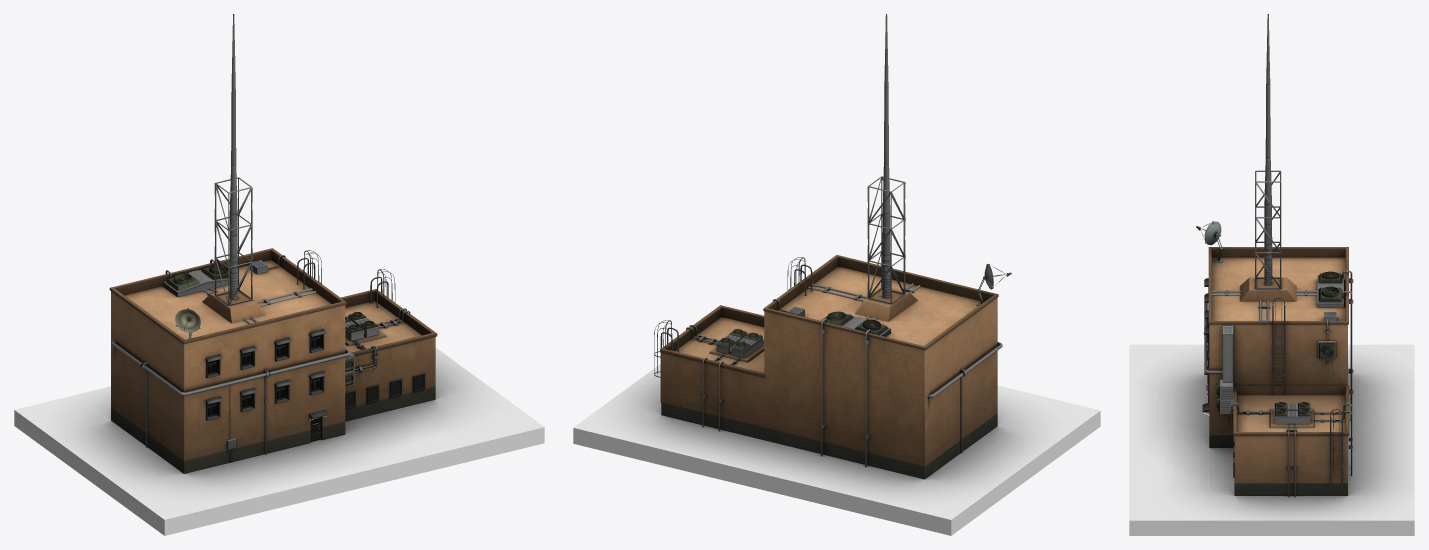
File: sf_apartment_1.glb
3 renders of one model, left to right at view 1: azimuth 30°, elevation 25°; view 2: azimuth 150°, elevation 25°; view 3: azimuth 270°, elevation 25°, orthographic. The views are drawn at different scales.
Parts seen in each view (by area): view 1: Plane.020_0, Plane_0, Plane.013_0, Plane_4, Plane.022_0, Cube.002_0, Plane.013_1, Plane.016_0; view 2: Plane.020_0, Plane_0, Plane.013_0, Plane_4, Plane.022_0, Cube.002_0, Plane.016_0; view 3: Plane.020_0, Plane_4, Plane.013_0, Plane.022_0, Cube.002_0, Plane_0, Plane.016_0, Circle.003_0.
Part boxes in pixels (x1,y1,x2,y2): Plane.020_0: [14, 347, 544, 535]; Plane_0: [184, 289, 435, 460]; Plane.013_0: [109, 248, 437, 473]; Plane_4: [111, 250, 431, 460]; Plane.022_0: [111, 14, 410, 462]; Cube.002_0: [166, 265, 378, 384]; Plane.013_1: [207, 335, 320, 430]; Plane.016_0: [297, 250, 395, 307]; Plane.020_0: [573, 364, 1100, 535]; Plane_0: [661, 288, 924, 466]; Plane.013_0: [660, 255, 998, 479]; Plane_4: [665, 257, 997, 465]; Plane.022_0: [686, 14, 1002, 467]; Cube.002_0: [717, 311, 888, 349]; Plane.016_0: [654, 257, 812, 402]; Plane.020_0: [1129, 344, 1414, 535]; Plane_4: [1209, 248, 1347, 483]; Plane.013_0: [1202, 247, 1349, 495]; Plane.022_0: [1203, 14, 1353, 497]; Cube.002_0: [1216, 271, 1341, 416]; Plane_0: [1240, 277, 1313, 425]; Plane.016_0: [1272, 298, 1342, 488]; Circle.003_0: [1196, 221, 1222, 262].
Size of the model in its own units: 16.52 by 18 by 11.32.
Materials: 10 (8 with a texture image).
